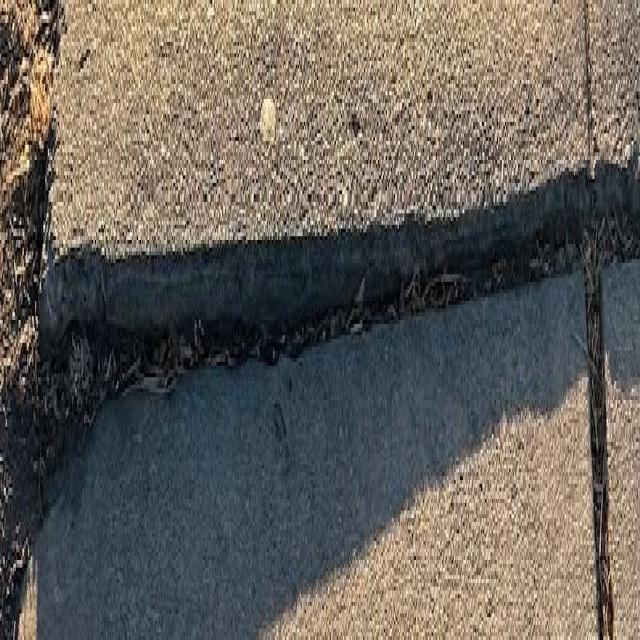bump: (28, 99, 640, 429)
